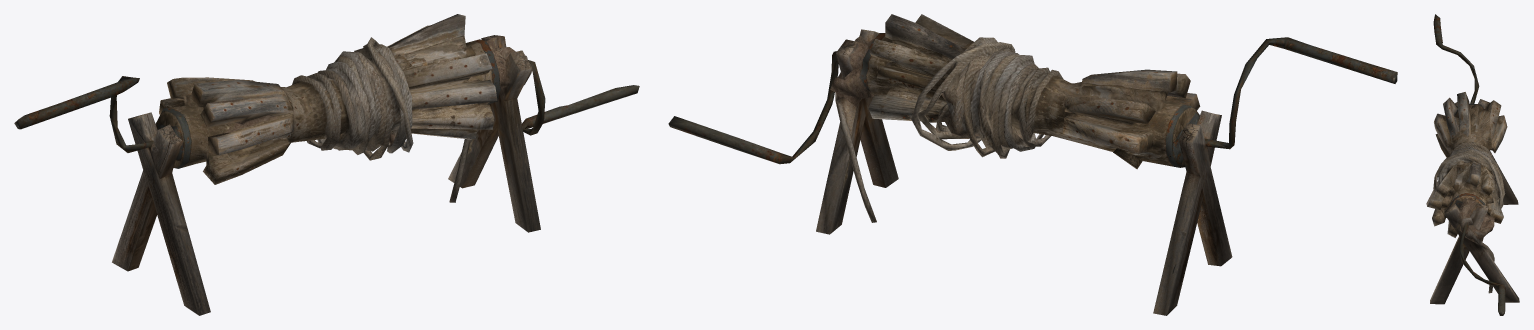
File: old_well_crank_ugcicbhga_low.glb
3 views of the same model, side by side, from view 1: azimuth 30°, elevation 25°; view 2: azimuth 150°, elevation 25°; view 3: azimuth 270°, elevation 25° (orthographic). The views are drawn at different scales.
Parts seen in each view (by area): view 1: ugcicbhga_LOD0_TIER3_000; view 2: ugcicbhga_LOD0_TIER3_000; view 3: ugcicbhga_LOD0_TIER3_000.
Part boxes in pixels (left/top/right/bottom): ugcicbhga_LOD0_TIER3_000: left=14, top=14, right=639, bottom=315; ugcicbhga_LOD0_TIER3_000: left=668, top=14, right=1397, bottom=315; ugcicbhga_LOD0_TIER3_000: left=1426, top=14, right=1519, bottom=315.
Bounding box in the file's own units: 2.28 × 0.7856 × 0.458.
Materials: 1 (1 with a texture image).
